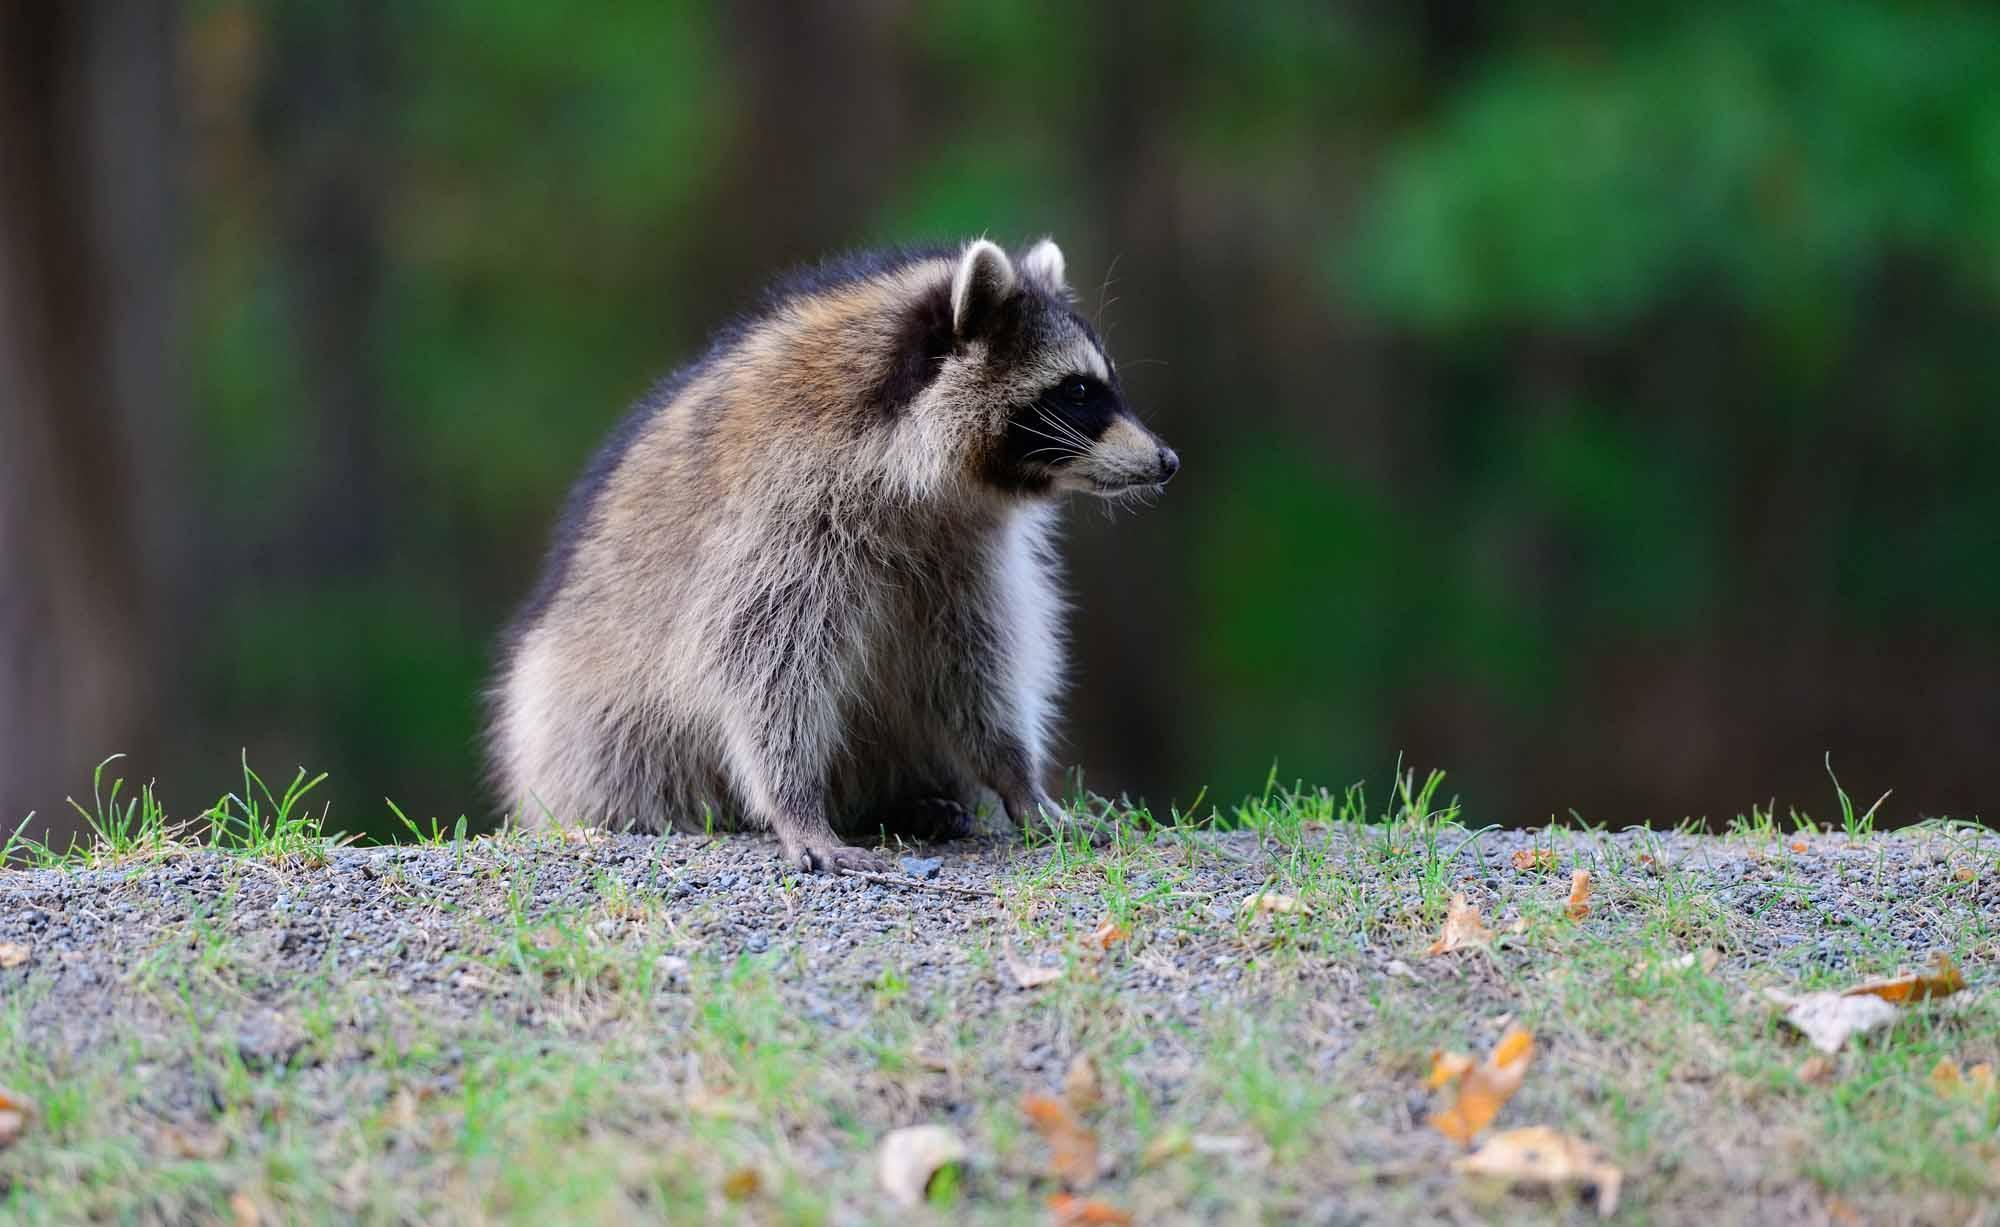raccoon: (477, 230, 1191, 874)
